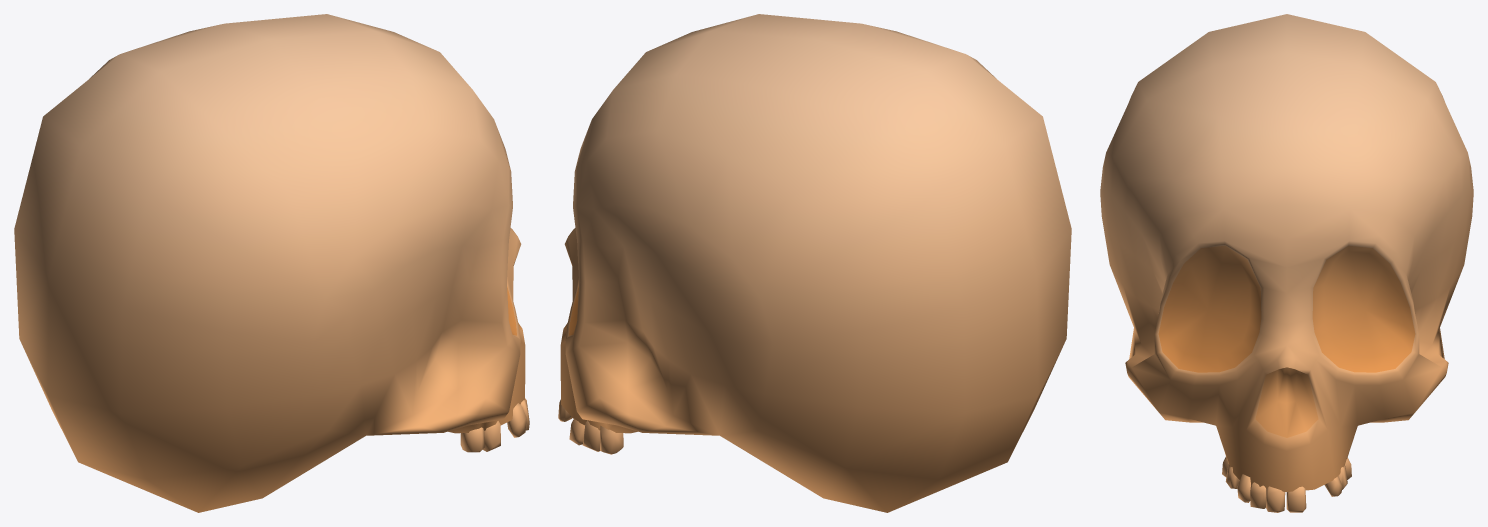
The model's file is Skull.fbx.
The picture shows the model from 3 angles, left to right: view 1: azimuth 30°, elevation 25°; view 2: azimuth 150°, elevation 25°; view 3: azimuth 270°, elevation 25°; orthographic projection. The views are drawn at different scales.
Visible parts, largest first — view 1: Skull; view 2: Skull; view 3: Skull.
Boxes of the visible parts, x1,y1,x2,y2 form: Skull: (14, 14, 529, 512); Skull: (558, 14, 1071, 512); Skull: (1100, 14, 1473, 512).
Bounding box in the file's own units: 0.2097 × 0.1849 × 0.1737.
1 material, 1 textured.
